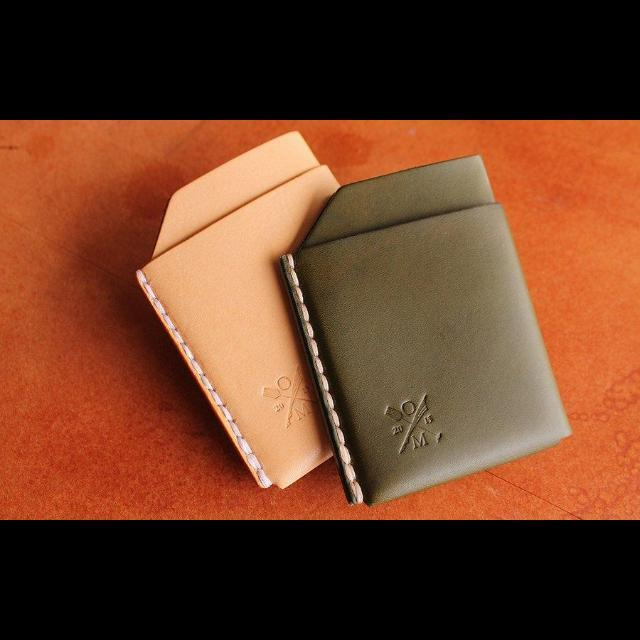wallet: (279, 151, 571, 507)
